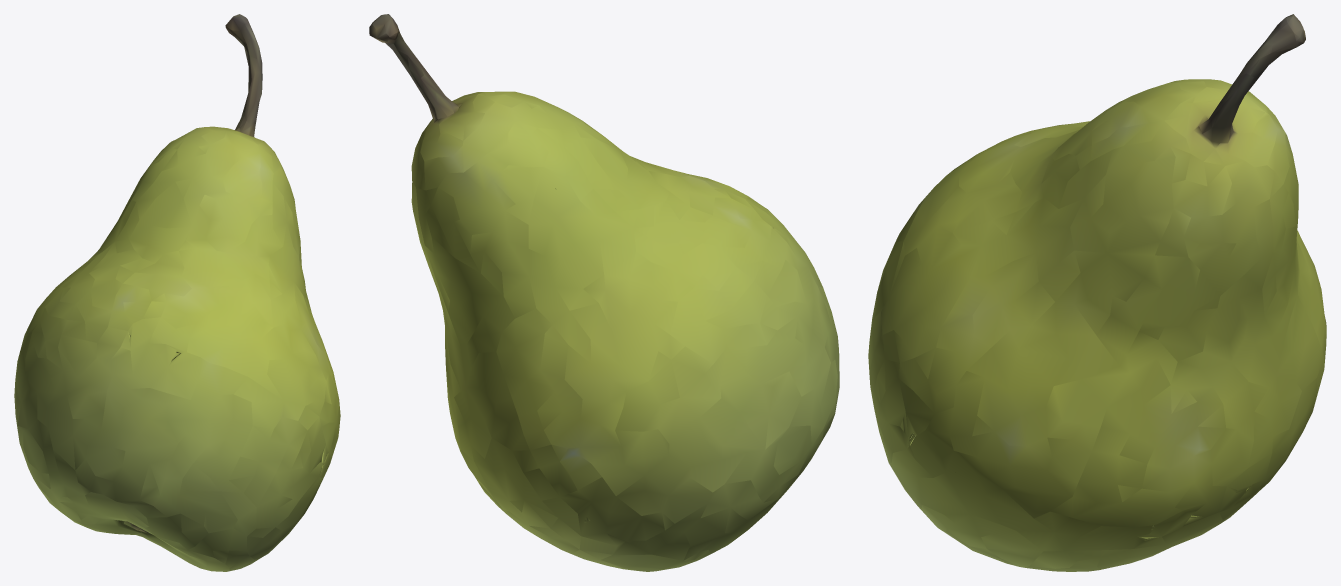
File: 0005_mask_006_green_pear.glb
3 renders of one model, left to right at view 1: azimuth 30°, elevation 25°; view 2: azimuth 150°, elevation 25°; view 3: azimuth 270°, elevation 25°, orthographic. The views are drawn at different scales.
Visible parts, largest first — view 1: mask_006_object; view 2: mask_006_object; view 3: mask_006_object.
Boxes of the visible parts, x1=… form: mask_006_object: x1=14, y1=14, x2=340, y2=571; mask_006_object: x1=369, y1=14, x2=839, y2=571; mask_006_object: x1=868, y1=14, x2=1326, y2=571.
Size of the model in its own units: 0.1354 by 0.2088 by 0.1393.
